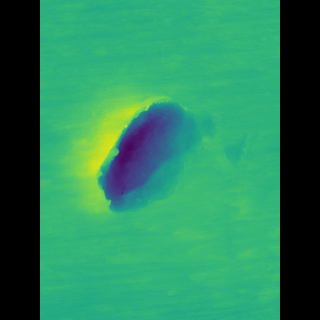Loch: (103, 83, 204, 219)
